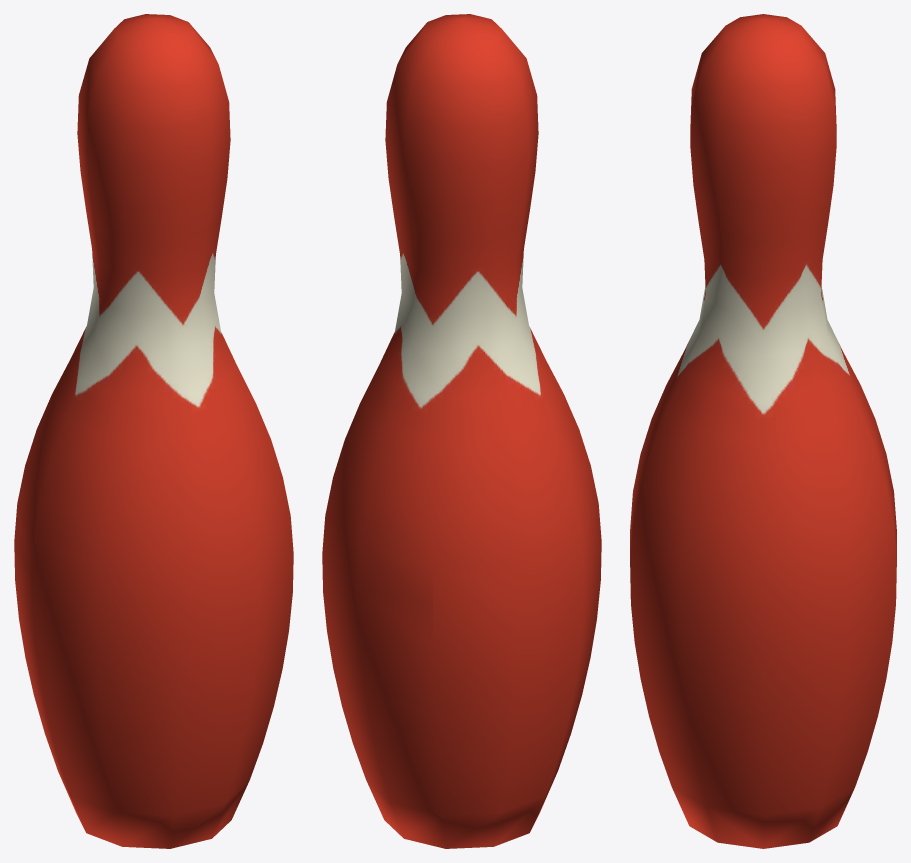
Rendered from bwg_Pin__bwg_pin_438_91.glb.
The picture shows the model from 3 angles, left to right: view 1: azimuth 30°, elevation 25°; view 2: azimuth 150°, elevation 25°; view 3: azimuth 270°, elevation 25°; orthographic projection.
Parts seen in each view (by area): view 1: polygon0; view 2: polygon0; view 3: polygon0.
Boxes of the visible parts, x1,y1,x2,y2 form: polygon0: (14,14,293,848); polygon0: (322,14,601,848); polygon0: (630,14,896,848).
Size of the model in its own units: 1.22 by 3.82 by 1.16.
2 materials, 2 textured.
